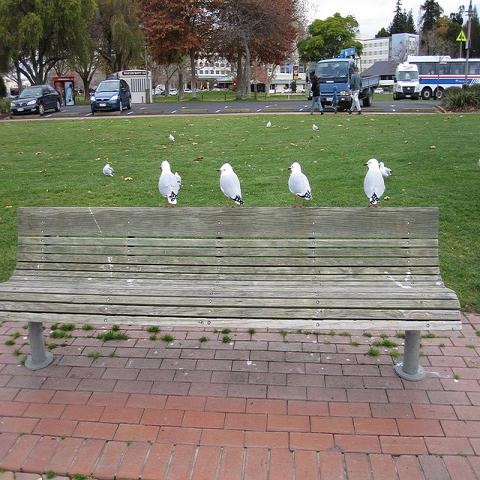bus: (407, 55, 479, 101)
car: (10, 84, 62, 115), (91, 80, 131, 114), (169, 88, 179, 96), (184, 88, 192, 95), (302, 89, 305, 92)
truck: (314, 45, 380, 108), (393, 62, 419, 101)
